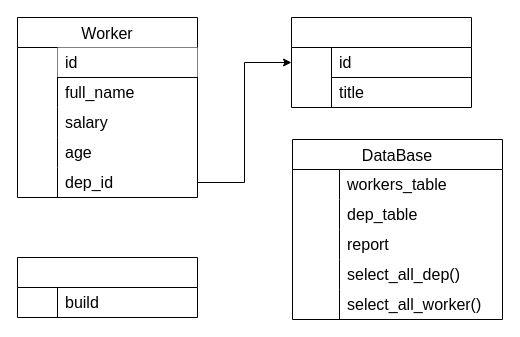
The diagram is 520 pixels wide and 337 high, and some of its shapes have lost their labels. Here are the shapes that lost their labels. From the top down, the box of each, then its label:
(290, 16, 472, 108): Department
(16, 256, 198, 318): main
